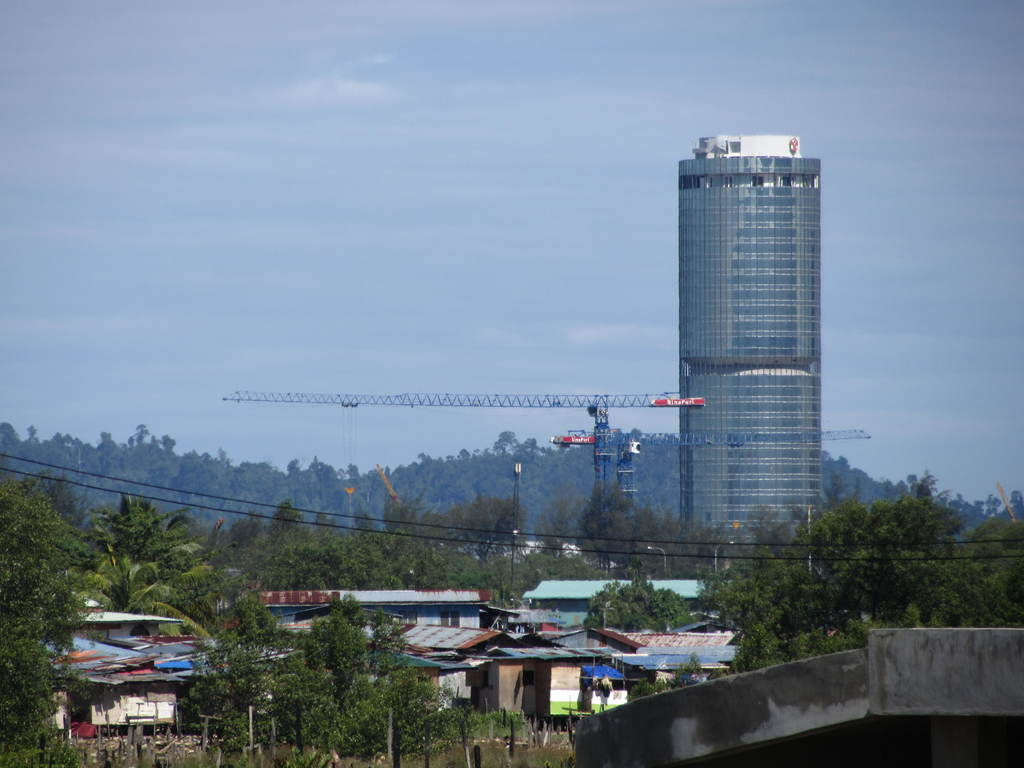Tree: (0, 415, 1023, 767), (535, 490, 583, 560)
